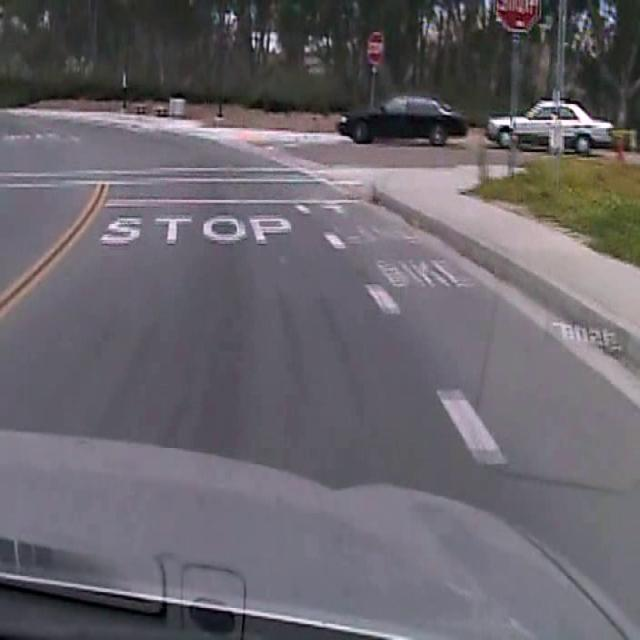stop_sign: (366, 29, 384, 64)
